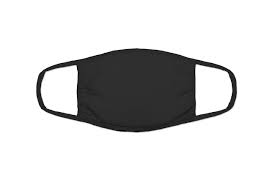mask: (27, 46, 245, 139)
